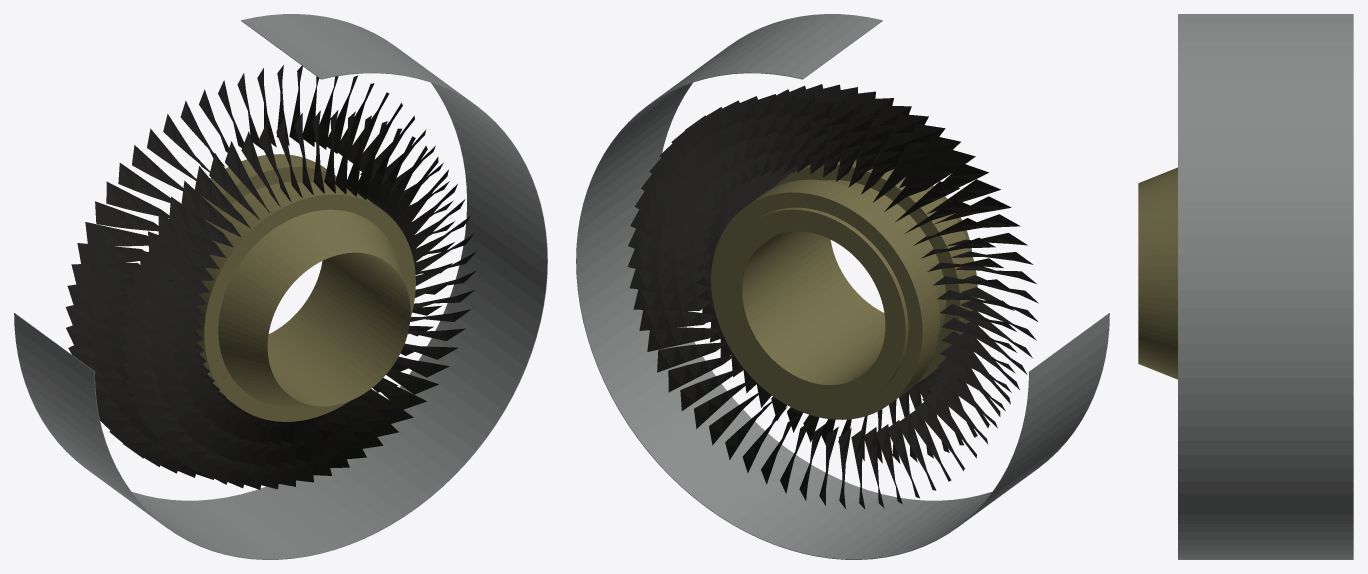
Rendered from Turbine.glb.
The picture shows the model from 3 angles, left to right: view 1: azimuth 30°, elevation 25°; view 2: azimuth 150°, elevation 25°; view 3: azimuth 270°, elevation 25°; orthographic projection. The views are drawn at different scales.
Parts seen in each view (by area): view 1: alabes_turbine, turbine_ext_cut, turbine_rotor; view 2: alabes_turbine, turbine_ext_cut, turbine_rotor; view 3: turbine_ext_cut, turbine_rotor.
Boxes of the visible parts, x1,y1,x2,y2 form: alabes_turbine: (65,65,476,489); turbine_ext_cut: (14,14,547,559); turbine_rotor: (196,154,415,421); alabes_turbine: (627,84,1038,509); turbine_ext_cut: (576,14,1109,559); turbine_rotor: (711,160,977,419); turbine_ext_cut: (1178,14,1353,559); turbine_rotor: (1138,167,1177,379).
Size of the model in its own units: 450 by 450 by 169.
